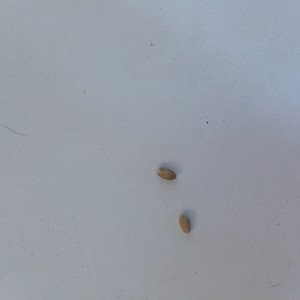trigo: (176, 212, 193, 236), (153, 165, 176, 181)
